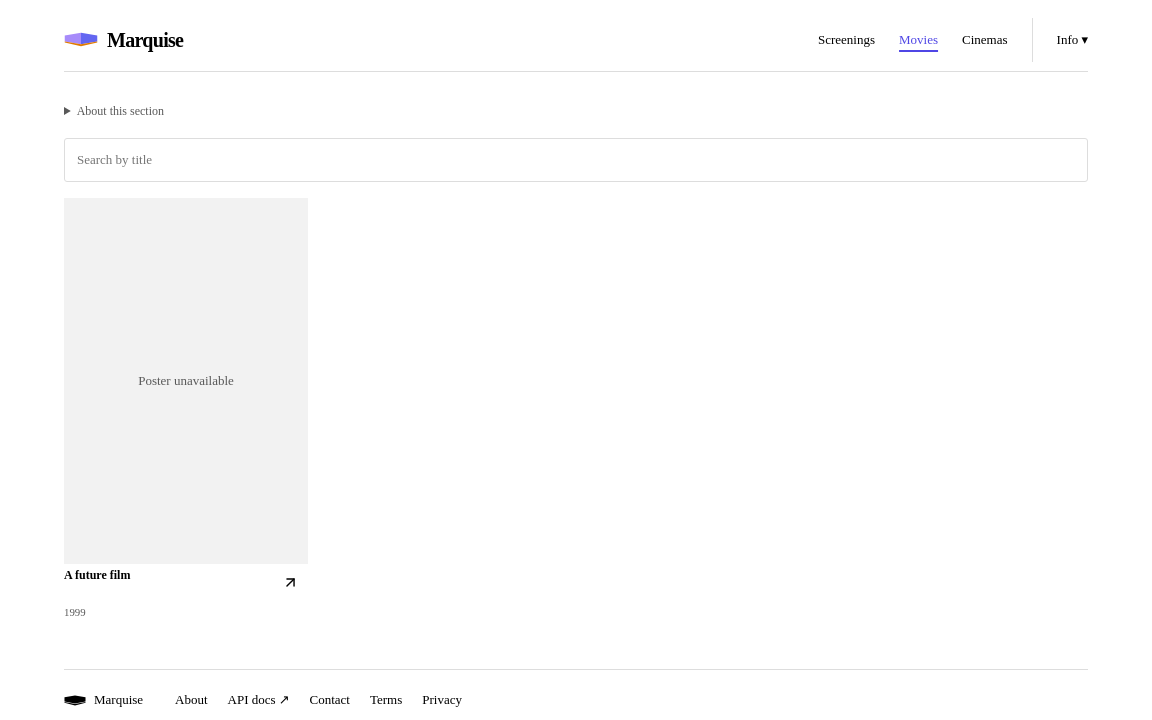
Test: keeps the schedule link when a movies section preview fails to load
Click the button named "Preview A future film".
click(290, 582)  # box [272,564,308,600]
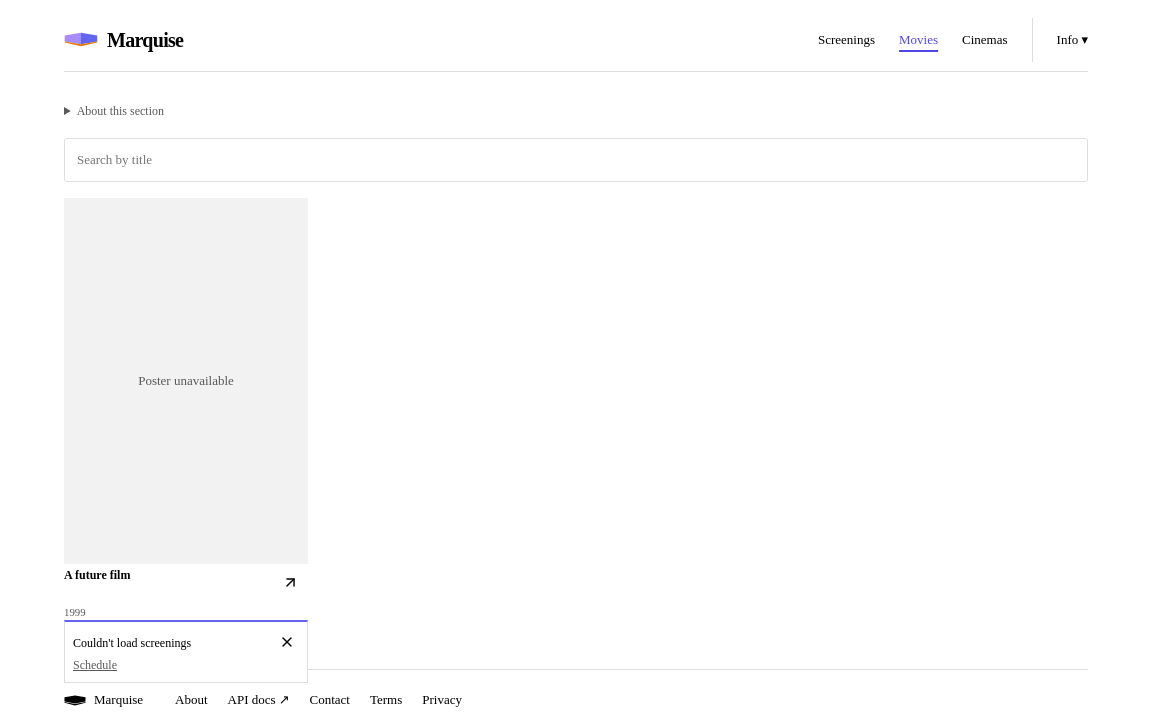
Expected: the text "Couldn't load screenings" is shown, [73,636,191,650]
Click the button named "Preview A future film".
click(290, 582)  # box [272,564,308,600]
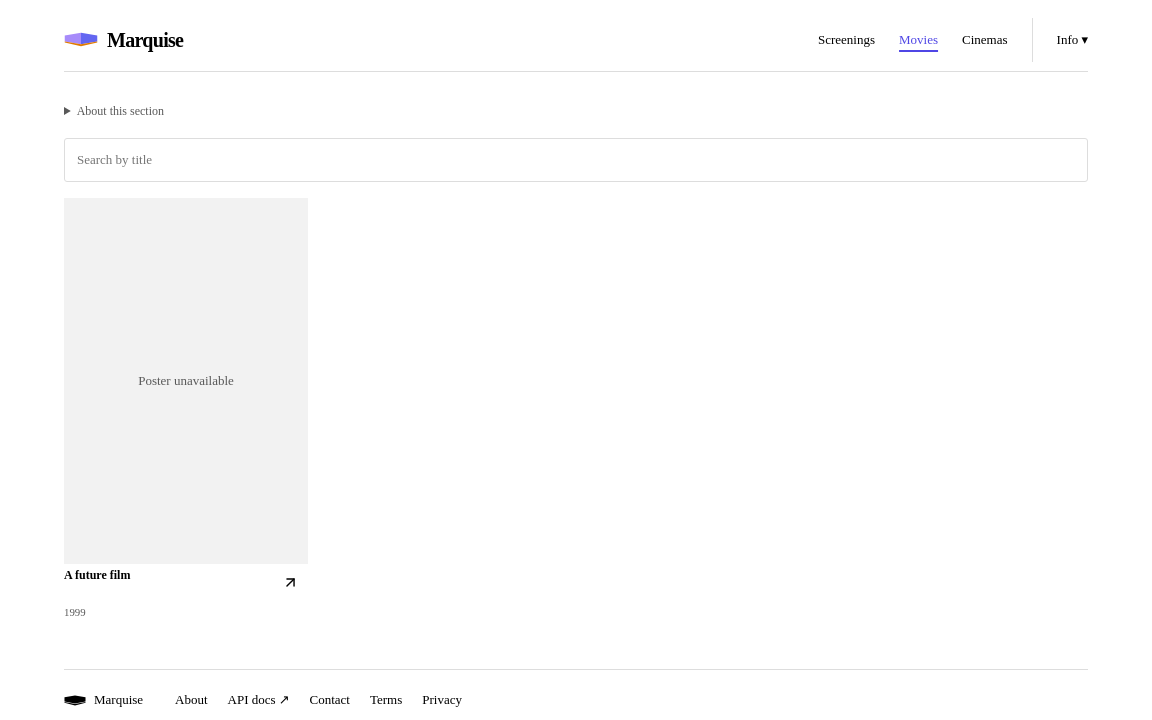
Click the button named "Preview A future film".
click(290, 582)  # box [272,564,308,600]
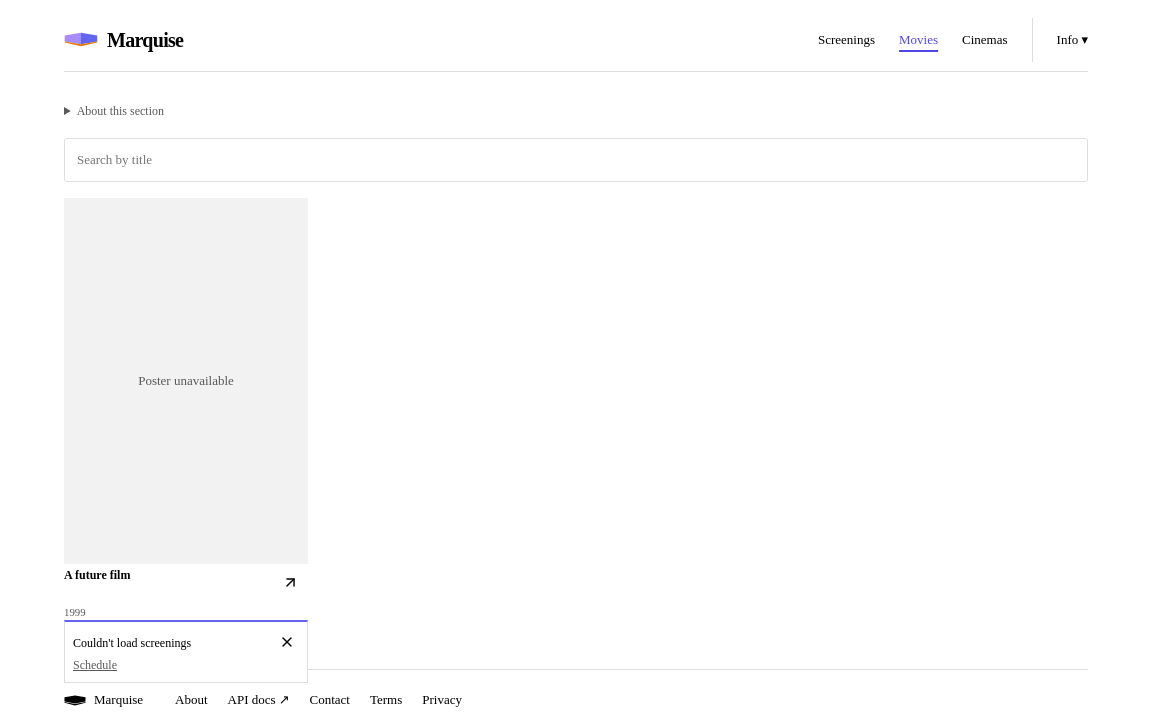
Expected: the text "Couldn't load screenings" is shown, [73,636,191,650]
